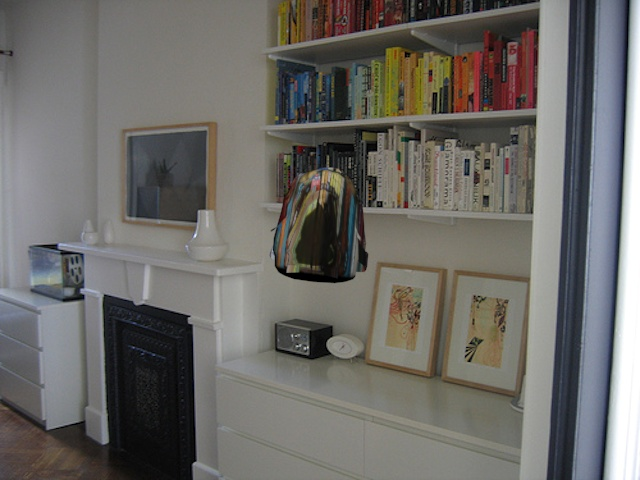back_pack: (263, 160, 376, 288)
